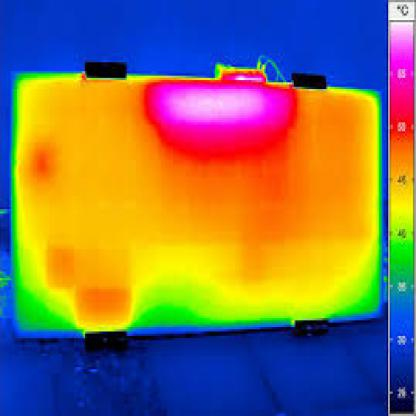Defects: (146, 82, 289, 138), (79, 289, 131, 325)
